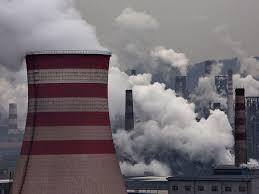smoke: (0, 0, 259, 179)
